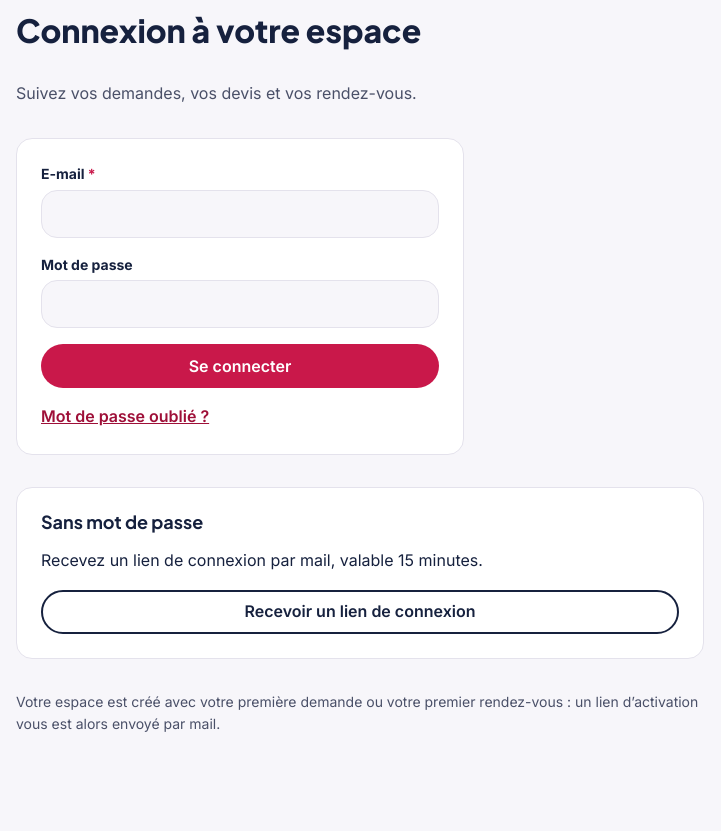
Test case: Connexion › prévient si le serveur ne répond pas
Step 1. Type "marie@exemple.fr" into the field labelled "E-mail *" → (240, 214), box top-left (41, 190), bottom-right (439, 238)
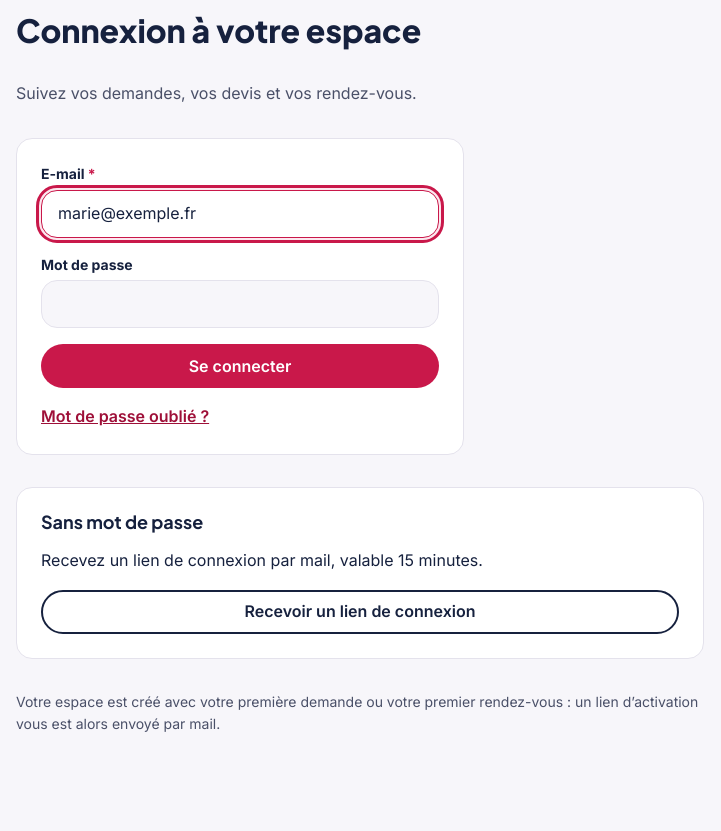
Step 2. Click the button "Se connecter" → (240, 366), box top-left (41, 344), bottom-right (439, 388)
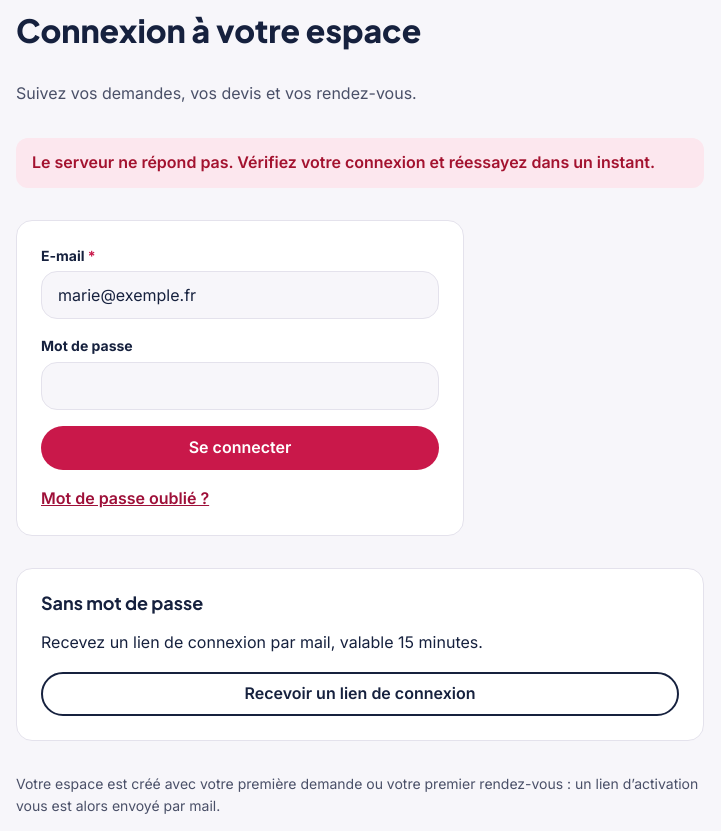
Now the message shows "Le serveur ne répond pas.", box top-left (32, 152), bottom-right (655, 172)
